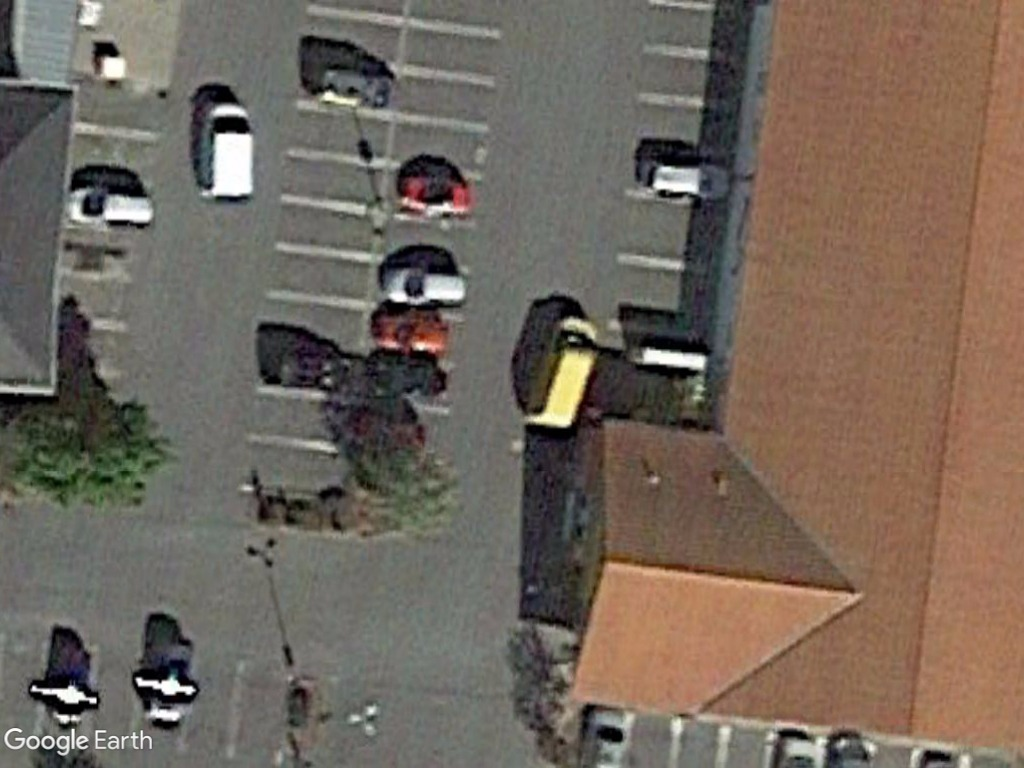car: (64, 182, 165, 232), (376, 260, 478, 306), (640, 157, 731, 206)
van: (519, 315, 604, 434), (196, 94, 260, 209)
